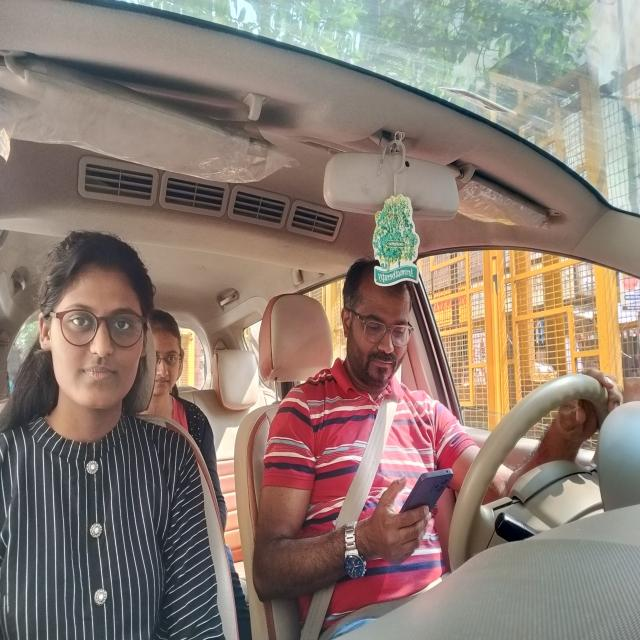mobile: (399, 465, 456, 539)
person: (37, 224, 148, 410), (339, 258, 419, 390), (145, 309, 188, 407)
